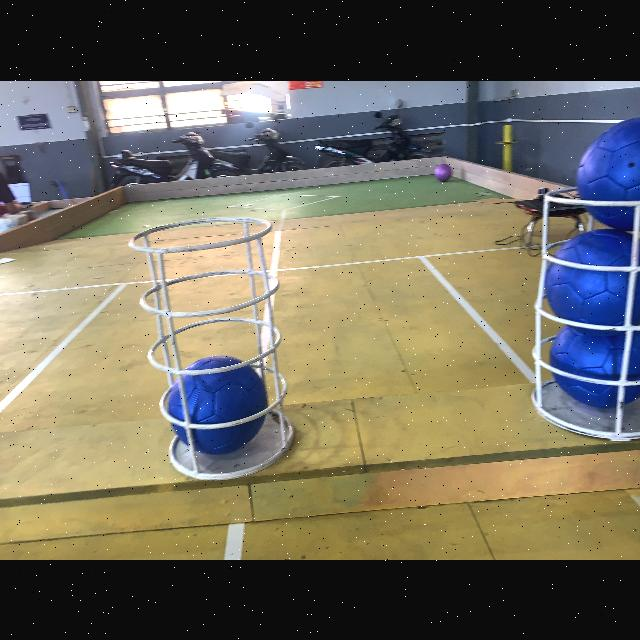B: (166, 356, 270, 459), (544, 228, 640, 326), (550, 322, 640, 411), (578, 116, 640, 230)
